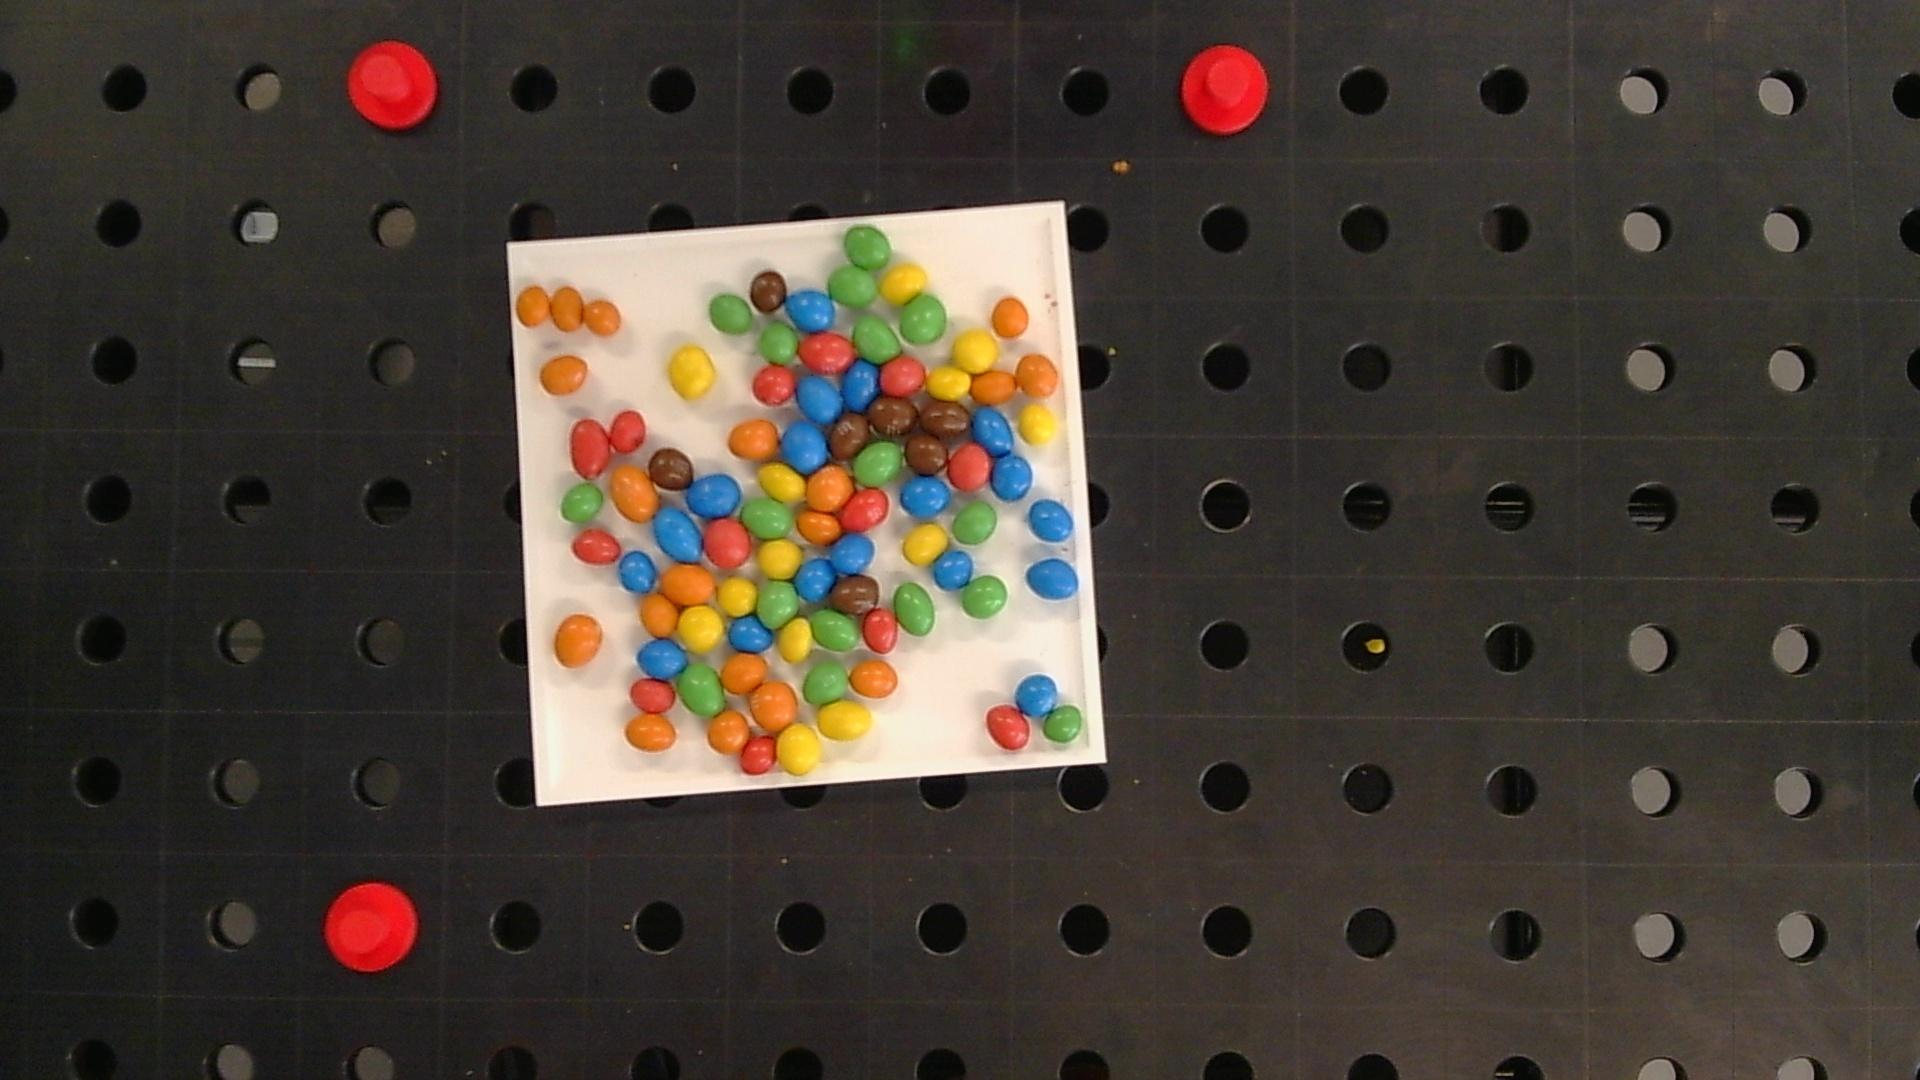blue: (654, 509, 703, 562), (687, 473, 741, 517), (1026, 559, 1079, 600), (783, 423, 828, 471), (798, 376, 843, 423), (901, 476, 949, 517), (786, 290, 833, 331), (973, 406, 1013, 455), (1029, 500, 1073, 542), (992, 454, 1031, 500), (638, 638, 686, 676), (843, 361, 880, 409), (1015, 674, 1058, 715), (832, 533, 874, 574), (796, 558, 836, 600), (618, 551, 657, 592), (729, 615, 771, 650), (934, 551, 972, 589)
brown: (920, 402, 969, 444), (869, 394, 918, 435), (649, 447, 694, 491), (829, 415, 869, 460), (833, 576, 880, 615), (906, 434, 947, 475), (750, 270, 787, 311)
green: (899, 294, 947, 343), (679, 663, 724, 715), (894, 583, 935, 636), (742, 497, 795, 538), (853, 442, 902, 485), (844, 225, 891, 269), (855, 316, 901, 360), (812, 609, 860, 651), (828, 266, 878, 306), (961, 576, 1007, 618), (803, 662, 848, 704), (953, 502, 997, 545), (758, 582, 799, 626), (708, 294, 753, 334), (560, 483, 603, 522), (1043, 705, 1085, 744), (760, 326, 798, 364)
orange: (611, 465, 658, 522), (555, 613, 603, 666), (750, 682, 798, 731), (728, 419, 779, 460), (661, 566, 715, 604), (625, 715, 676, 752), (807, 467, 852, 509), (539, 355, 587, 394), (849, 659, 898, 698), (1017, 355, 1059, 397), (708, 711, 749, 754), (723, 654, 766, 694), (641, 592, 678, 636), (971, 371, 1017, 404), (992, 298, 1029, 336), (551, 286, 583, 330), (517, 286, 550, 326), (799, 512, 840, 543), (585, 299, 621, 335)
red: (570, 419, 609, 477), (799, 332, 855, 373), (704, 520, 750, 567), (985, 705, 1030, 749), (948, 444, 992, 489), (841, 489, 887, 530), (881, 357, 926, 394), (753, 367, 795, 405), (571, 530, 620, 563), (609, 410, 646, 452), (864, 608, 898, 653), (630, 679, 675, 712), (740, 737, 777, 774)
yellow: (669, 345, 716, 398), (777, 724, 820, 774), (816, 702, 873, 740), (679, 607, 724, 651), (902, 524, 947, 564), (953, 330, 997, 371), (760, 464, 806, 501), (758, 539, 800, 579), (882, 265, 926, 301), (1019, 405, 1058, 443), (717, 578, 757, 615), (779, 618, 812, 662), (927, 367, 971, 398)
